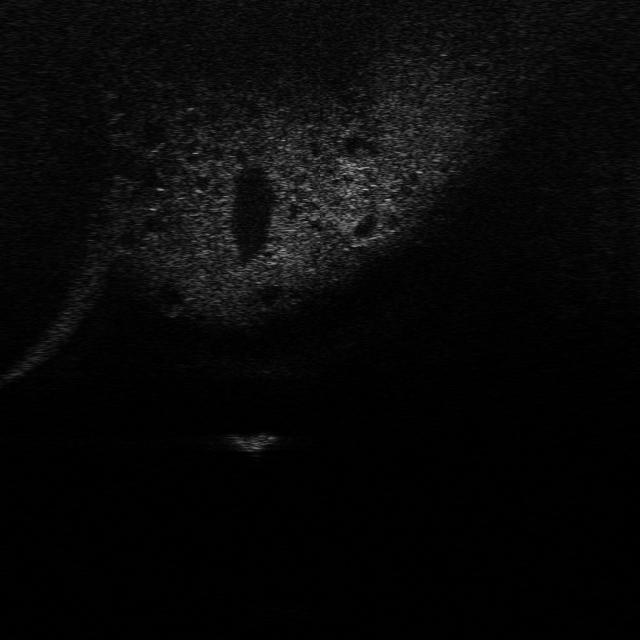cube: (226, 428, 282, 456)
